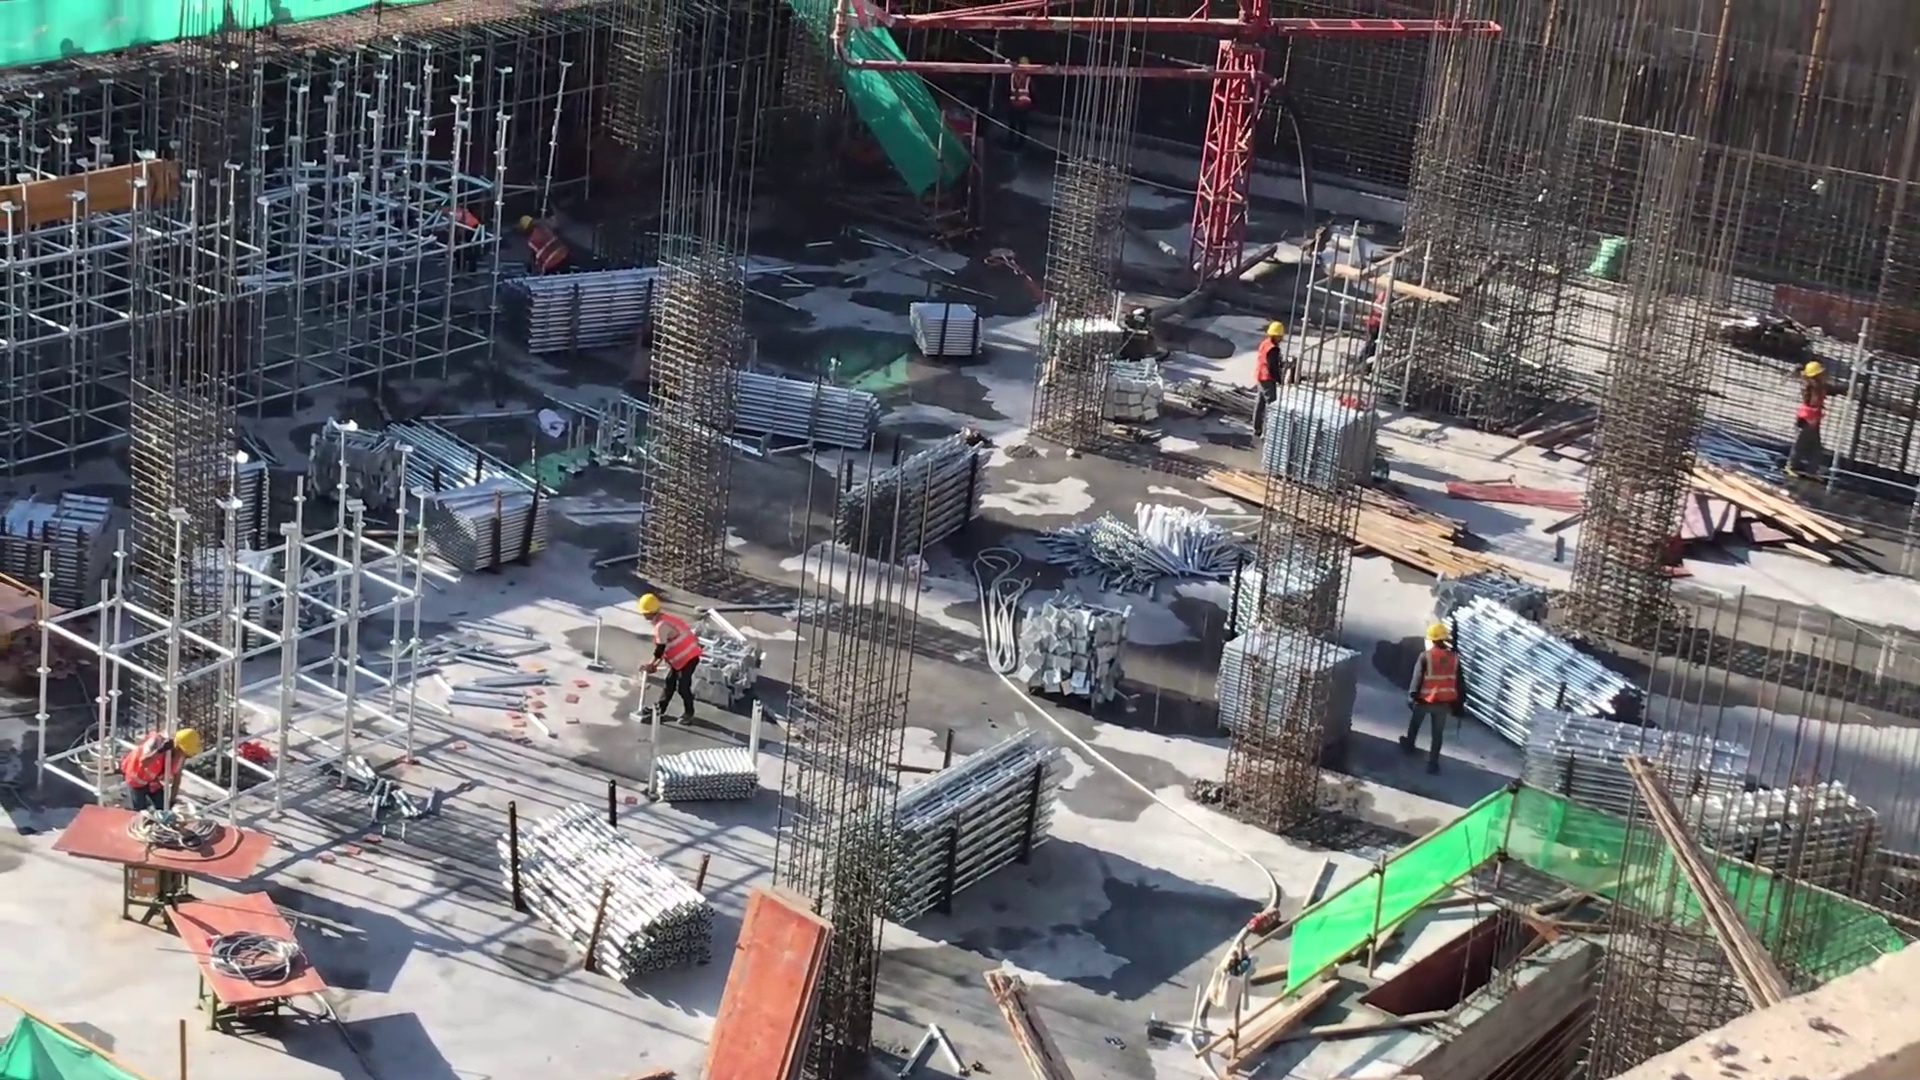helmet: (167, 727, 207, 768), (636, 590, 665, 629), (1427, 617, 1458, 653), (1801, 361, 1825, 387), (517, 208, 538, 235), (1268, 319, 1288, 347), (1018, 53, 1031, 73)
person: (1394, 620, 1477, 770), (636, 587, 704, 740), (105, 729, 206, 824), (1248, 308, 1294, 461), (1793, 347, 1834, 502), (513, 204, 573, 301), (444, 187, 484, 290), (1011, 52, 1041, 138)
vest: (643, 617, 709, 677), (123, 733, 182, 794), (1416, 645, 1465, 712), (523, 222, 568, 276), (1254, 337, 1292, 397), (1796, 380, 1831, 433), (1011, 73, 1034, 112)
